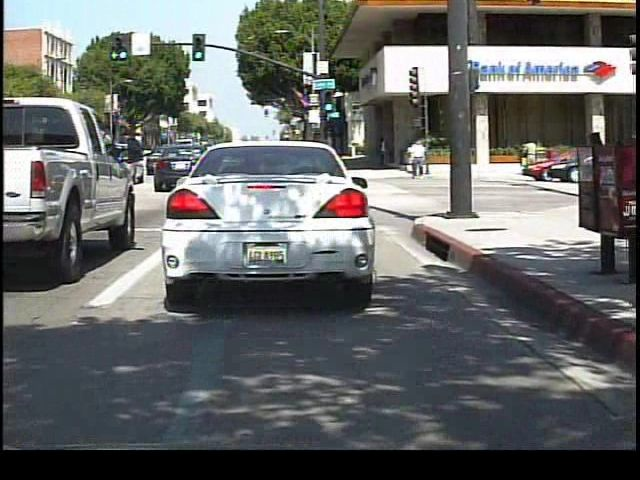person: (519, 135, 541, 176), (407, 136, 427, 179), (445, 136, 463, 177)
